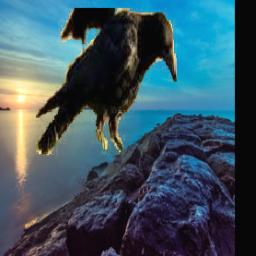Crow: (37, 8, 178, 155)
